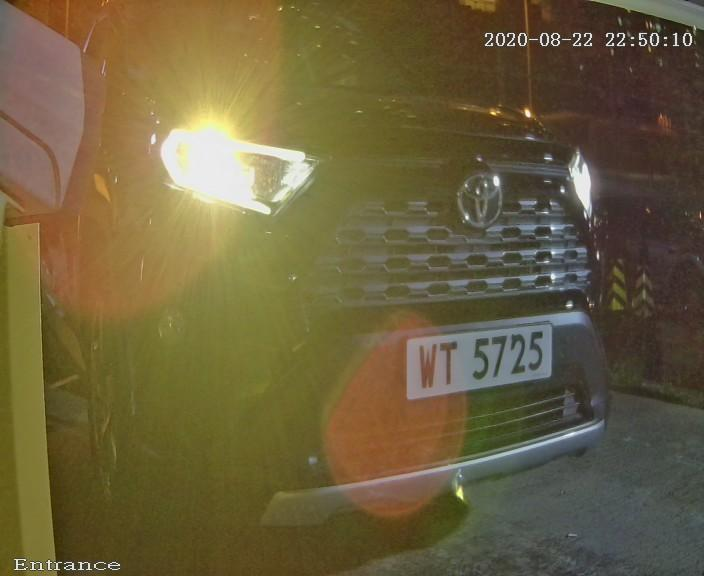Car: (10, 16, 667, 553)
License Plate: (368, 300, 584, 432)
